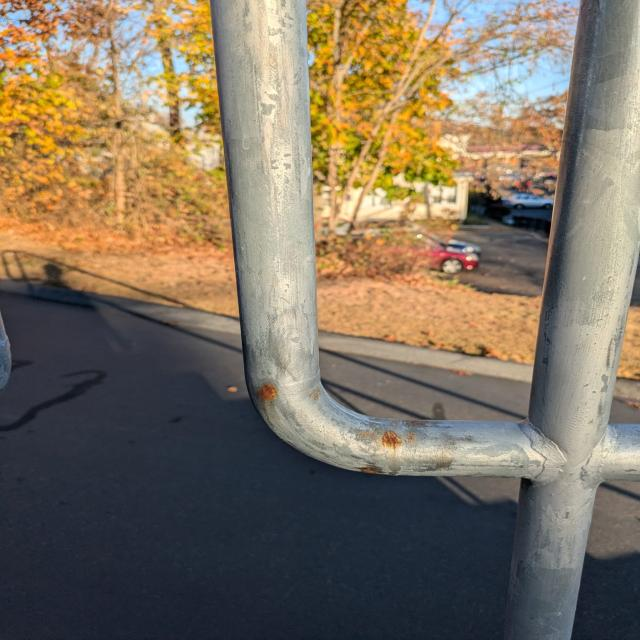Filiform Corrosion: (251, 376, 293, 417), (371, 428, 422, 451), (357, 464, 407, 478)
